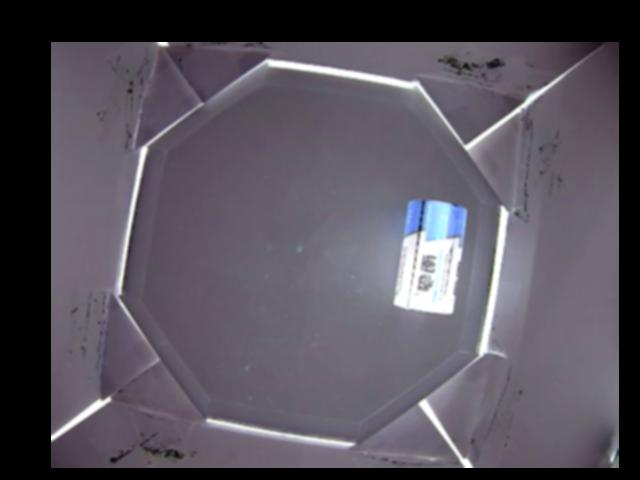Battery: (393, 198, 469, 314)
